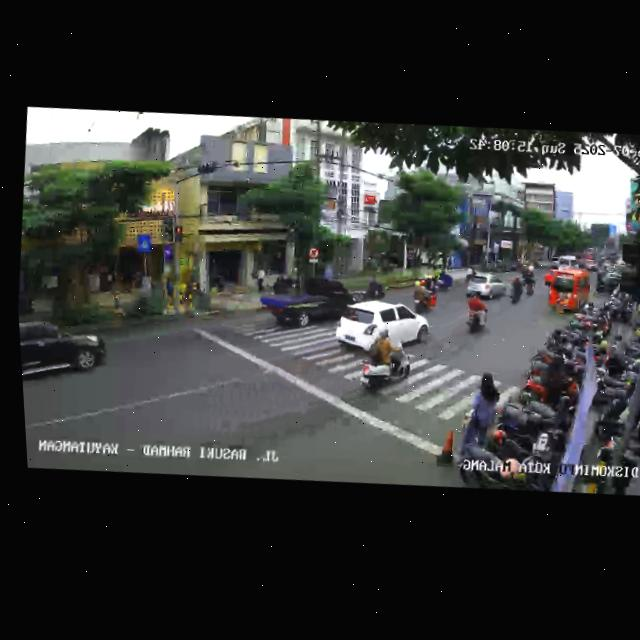car: (19, 311, 109, 398), (331, 293, 428, 363), (259, 267, 354, 336), (543, 263, 598, 319), (463, 268, 511, 305), (596, 267, 623, 292)
motorcycle: (354, 325, 414, 399), (460, 289, 491, 336), (410, 275, 438, 313), (359, 272, 388, 303), (507, 271, 525, 307), (521, 264, 537, 297), (436, 267, 454, 292)
person: (463, 367, 507, 448)
